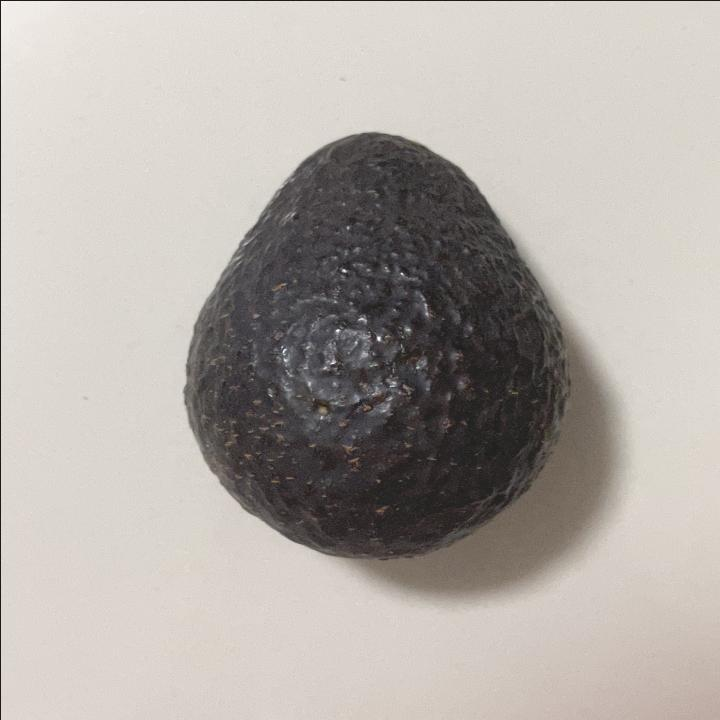Level3: (170, 122, 580, 568)
